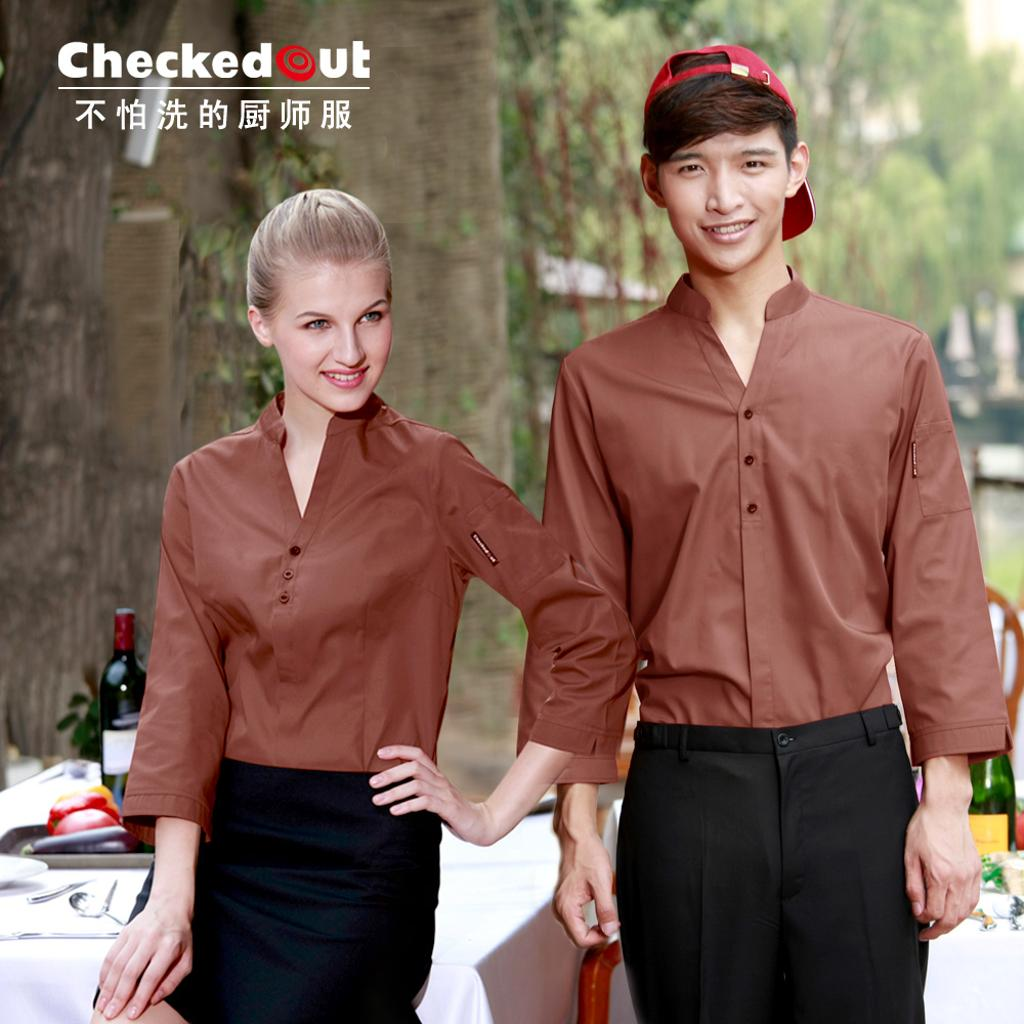face: (658, 102, 788, 274), (272, 236, 394, 412)
